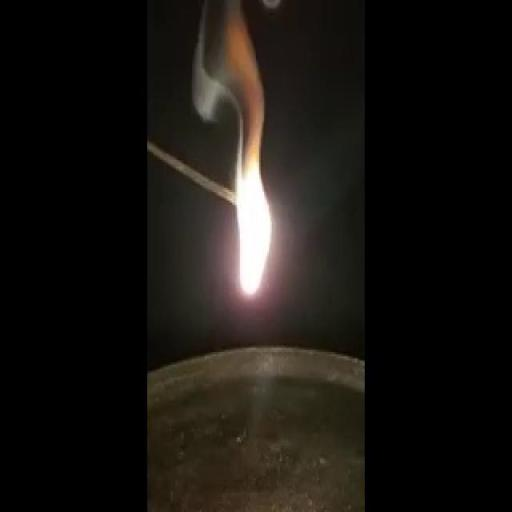smoke: (210, 118, 276, 324)
